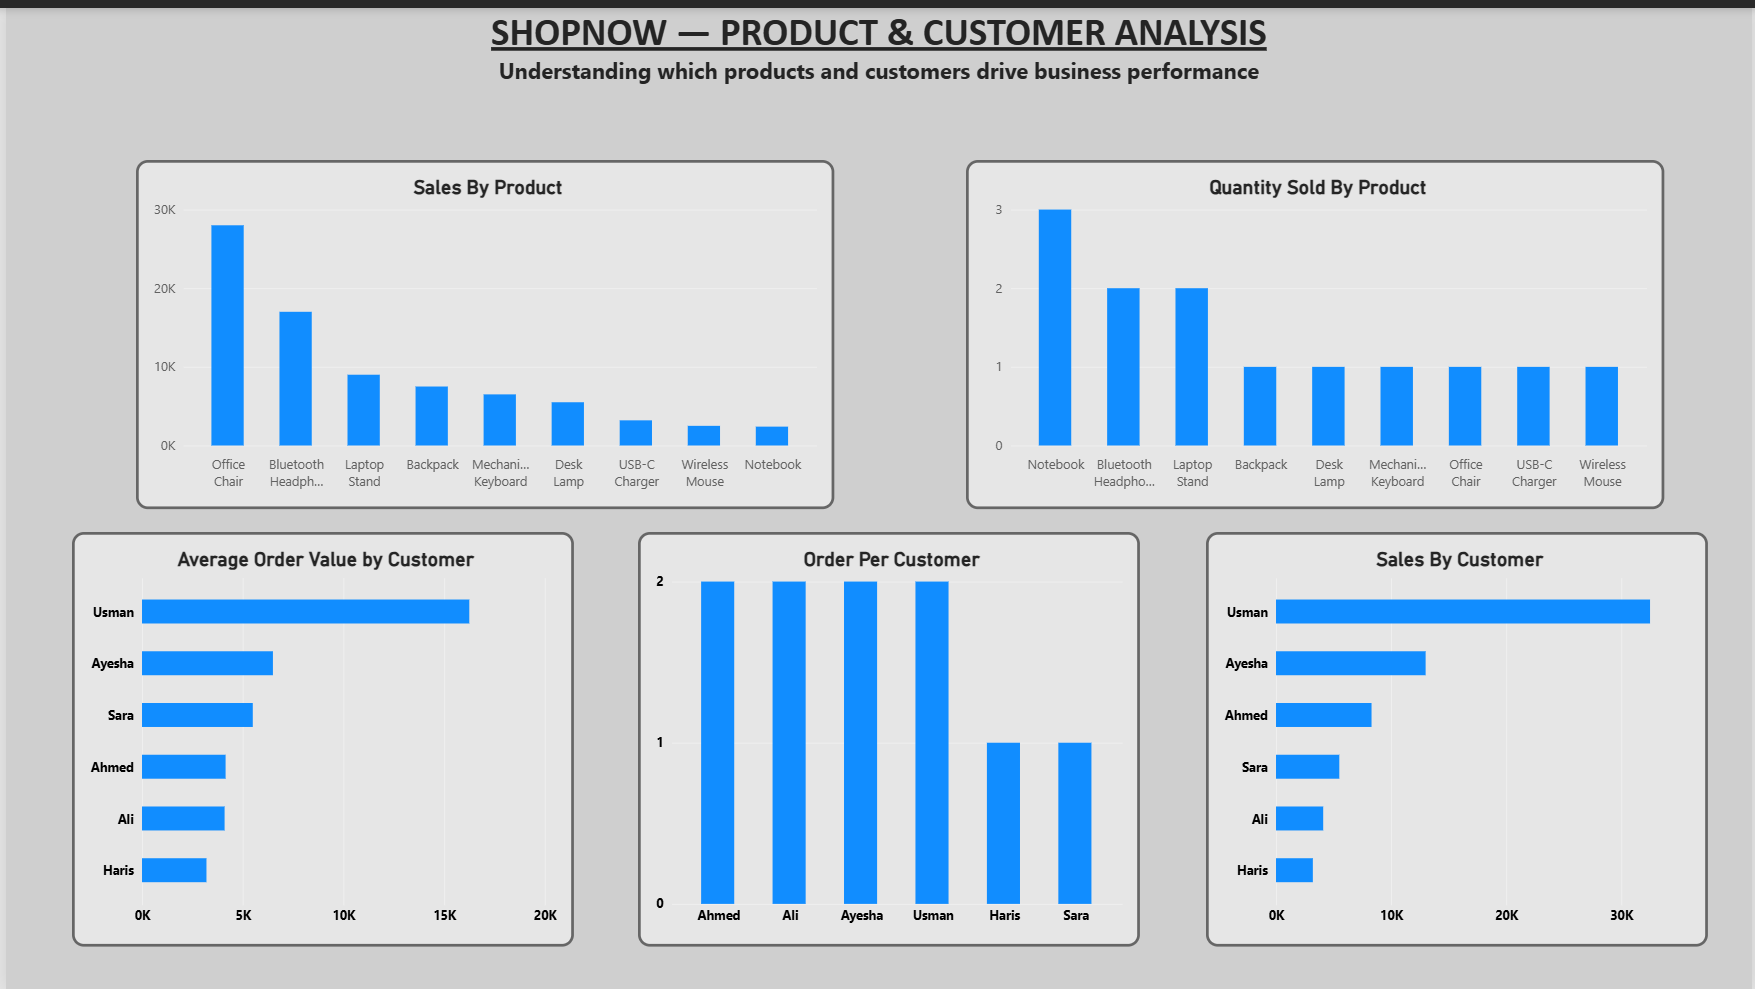

This screenshot's page, from the dashboard's own definition file:
{"tool":"powerbi","page":{"name":"Page 2 Product & Customer Analysis","canvas":[1920,1080],"ordinal":1},"visuals":[{"type":"textbox","box":[0,0,1920,120],"z":0},{"type":"clusteredColumnChart","title":"Sales By Product","fields":{"Category":["public products.product_name"],"Y":["public products.Product Sales"]},"box":[144,168,768,384],"z":1000},{"type":"clusteredColumnChart","title":"Quantity Sold By Product","fields":{"Category":["public products.product_name"],"Y":["Sum(public order_items.quantity)"]},"box":[1056,168,768,384],"z":2000},{"type":"clusteredBarChart","title":"Sales By Customer","fields":{"Category":["public customers.customer_name"],"Y":["public customers.Category Sales"]},"box":[1320,576,552,456],"z":3000},{"type":"clusteredColumnChart","title":"Order Per Customer","fields":{"Category":["public customers.customer_name"],"Y":["CountNonNull(public order_items.order_id)"]},"box":[696,576,552,456],"z":4000},{"type":"clusteredBarChart","title":"Average Order Value by Customer","fields":{"Category":["public customers.customer_name"],"Y":["Avg(public orders.amount)"]},"box":[72,576,552,456],"z":5000}]}

Visuals, with their boxes in screenshot pixels (x1, y1, x2, y2), scaled from the page's 1920x1080 canvas onto the 1755x989 screenshot:
textbox: 0:0:1754:110
"Sales By Product" clusteredColumnChart: 132:154:834:505
"Quantity Sold By Product" clusteredColumnChart: 965:154:1667:505
"Sales By Customer" clusteredBarChart: 1207:527:1711:945
"Order Per Customer" clusteredColumnChart: 636:527:1141:945
"Average Order Value by Customer" clusteredBarChart: 66:527:570:945
